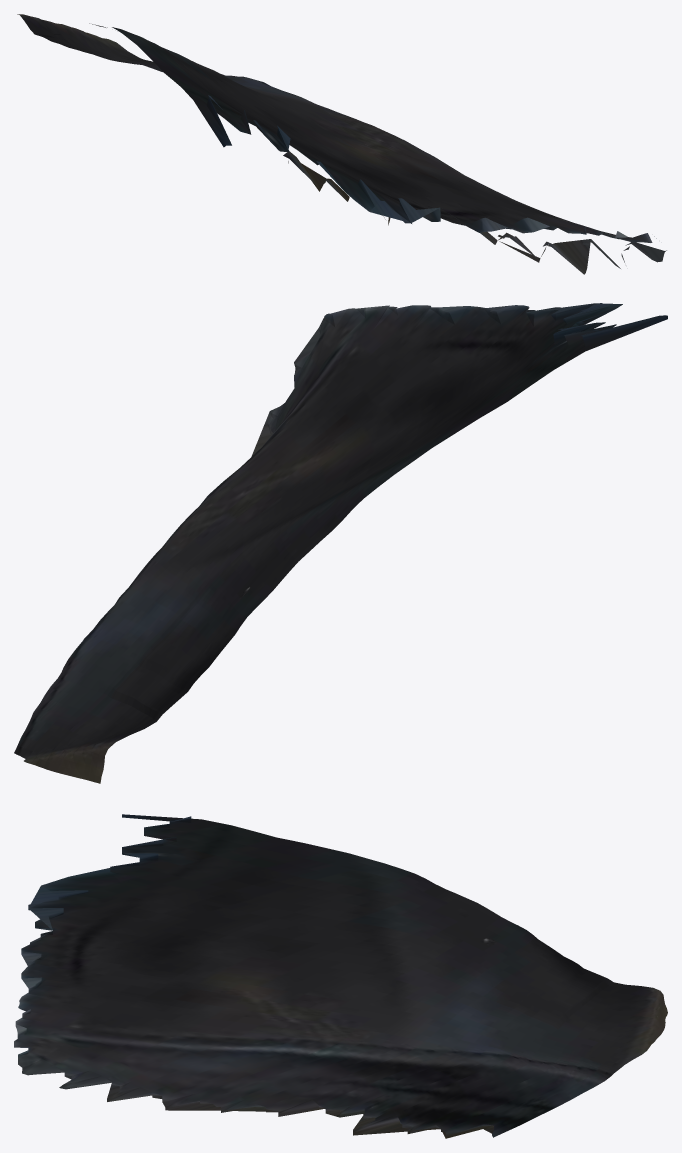
File: observed-surface.glb
3 views of the same model, one above another, from view 1: azimuth 30°, elevation 25°; view 2: azimuth 150°, elevation 25°; view 3: azimuth 270°, elevation 25° (orthographic). The views are drawn at different scales.
Visible parts, largest first — view 1: geometry_0; view 2: geometry_0; view 3: geometry_0.
Boxes of the visible parts, x1,y1,x2,y2 form: geometry_0: (17,14,666,274); geometry_0: (14,303,667,783); geometry_0: (14,814,667,1138).
Bounding box in the file's own units: 0.6288 × 0.4592 × 1.24.
1 material, 1 textured.
